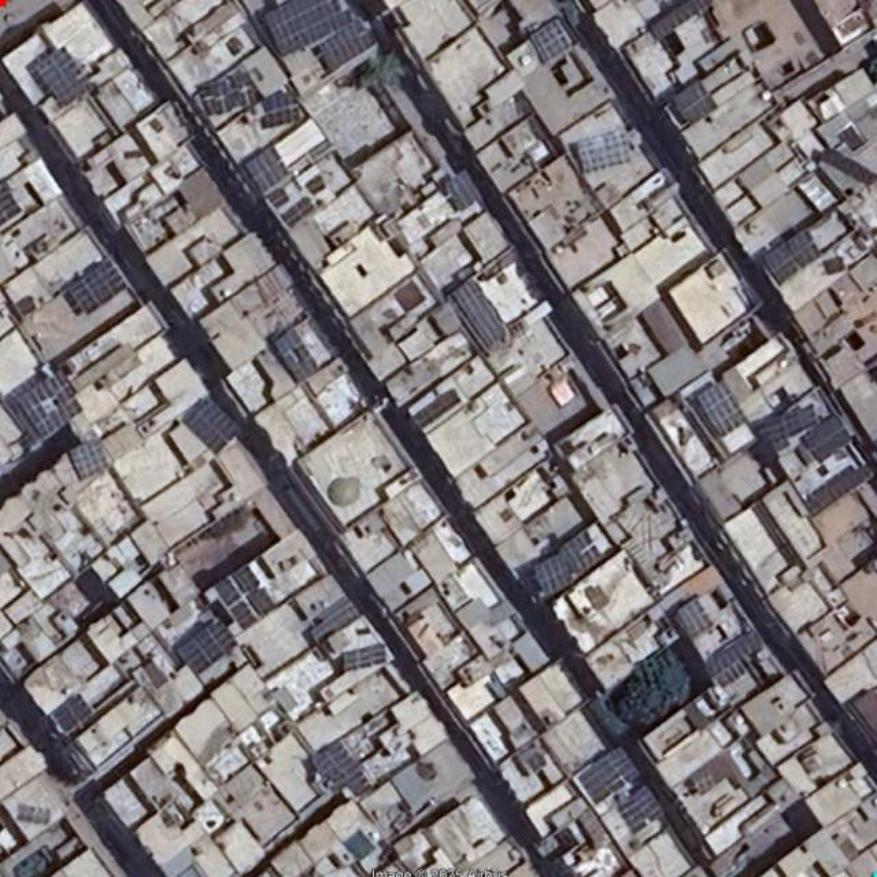Solarpanel: (264, 0, 356, 56), (17, 371, 82, 440), (533, 531, 601, 596), (311, 739, 375, 795), (34, 46, 92, 107), (806, 464, 872, 515), (764, 226, 820, 284), (181, 398, 238, 454), (177, 622, 238, 674), (69, 259, 124, 312), (583, 752, 639, 802), (319, 21, 376, 68), (802, 416, 853, 465), (698, 383, 745, 434), (647, 0, 707, 39), (758, 406, 813, 446), (619, 789, 667, 834), (577, 129, 631, 169), (232, 566, 272, 619), (819, 148, 876, 185), (413, 388, 463, 427), (674, 82, 718, 124), (532, 20, 575, 62), (244, 148, 285, 190), (52, 692, 91, 734), (676, 600, 713, 637), (70, 442, 108, 478), (0, 174, 23, 225), (264, 94, 299, 126), (348, 645, 386, 670), (285, 199, 316, 225), (214, 581, 239, 605), (234, 604, 257, 625), (269, 190, 287, 203)
